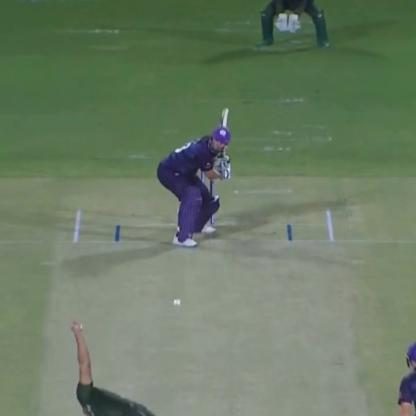ball: (170, 293, 186, 310)
bat: (212, 103, 235, 141)
pitch: (34, 213, 366, 416)
